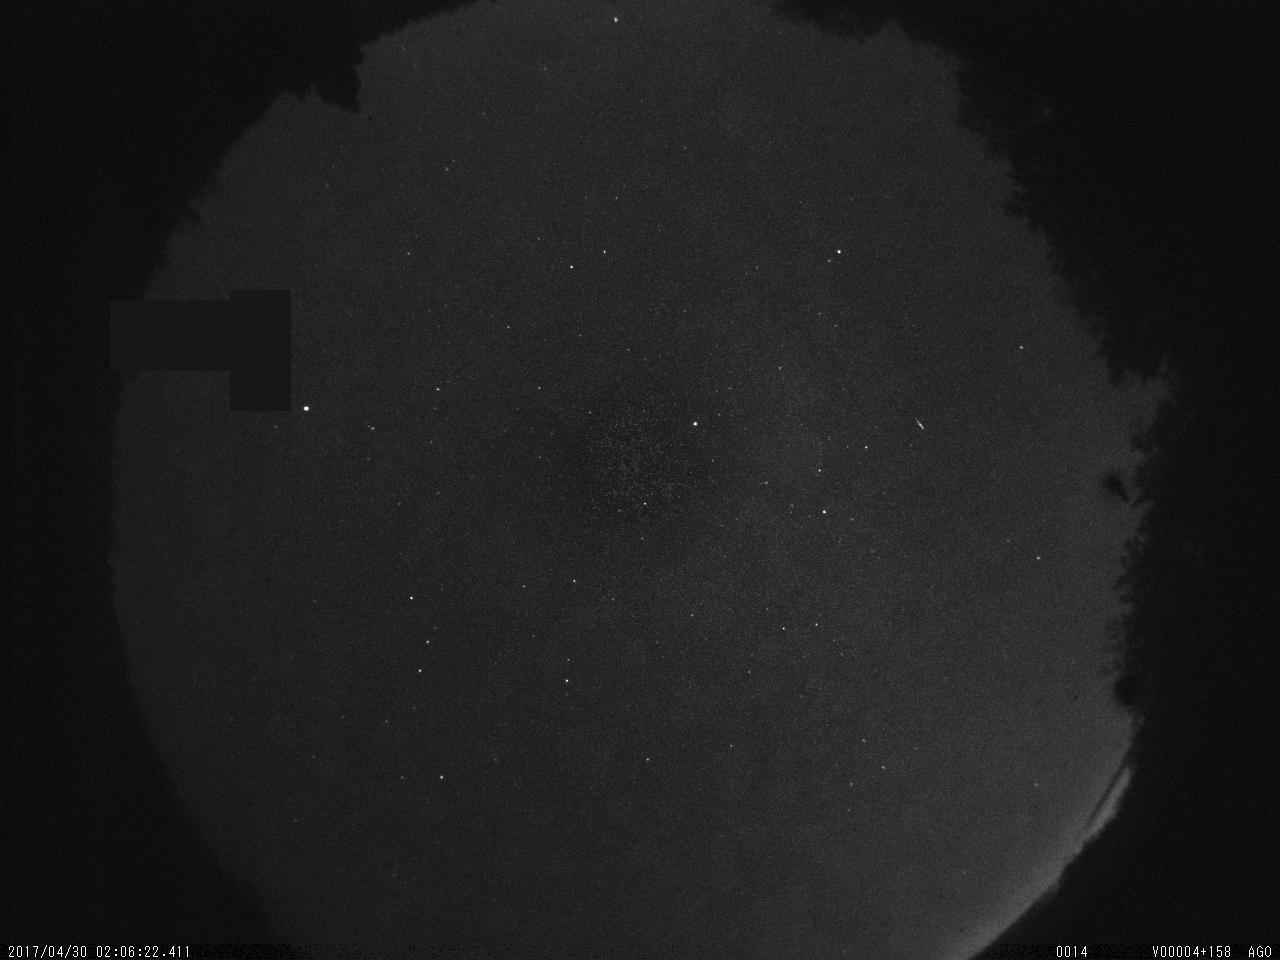Meteor: (910, 412, 929, 433)
